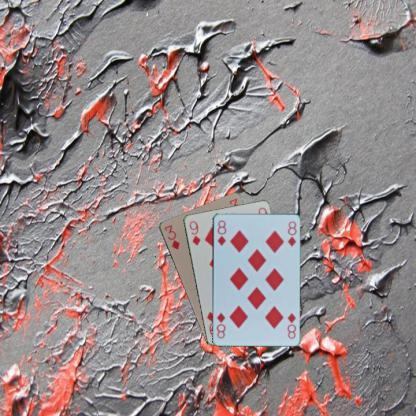3d: (162, 222, 181, 251)
8d: (284, 310, 297, 340), (215, 218, 227, 247)
9d: (186, 218, 202, 247)
